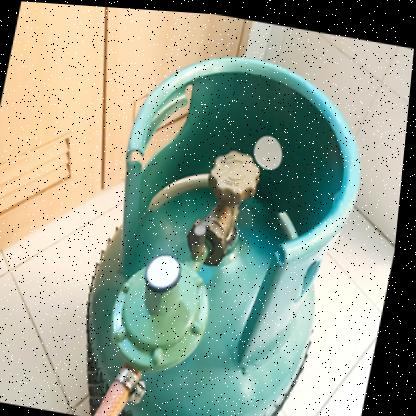gas-tank: (49, 22, 381, 415)
